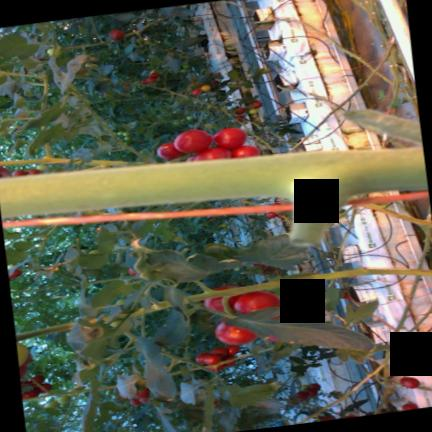6kp_peduncle: (207, 285, 247, 314)
6kp_petiole: (192, 280, 225, 300)
MainStem: (0, 145, 429, 218), (186, 267, 432, 300)
tomato: (232, 290, 280, 312), (215, 319, 256, 344), (203, 285, 241, 310), (173, 128, 211, 152), (212, 127, 246, 148), (186, 146, 230, 160), (16, 342, 30, 376), (156, 141, 182, 158), (230, 144, 259, 156), (399, 376, 419, 387), (191, 83, 211, 94), (203, 353, 221, 364), (210, 346, 227, 355), (46, 46, 61, 56), (223, 354, 235, 366), (195, 352, 209, 362), (110, 29, 124, 39), (401, 401, 417, 409), (226, 344, 238, 354), (57, 394, 70, 403), (208, 363, 224, 370), (44, 399, 57, 407), (0, 165, 9, 176), (247, 100, 261, 107), (11, 169, 27, 175), (148, 70, 158, 78), (27, 168, 40, 174), (199, 83, 210, 90), (234, 106, 245, 113), (36, 163, 46, 170), (234, 114, 243, 120), (248, 108, 258, 113), (140, 78, 149, 83), (146, 77, 156, 81)
